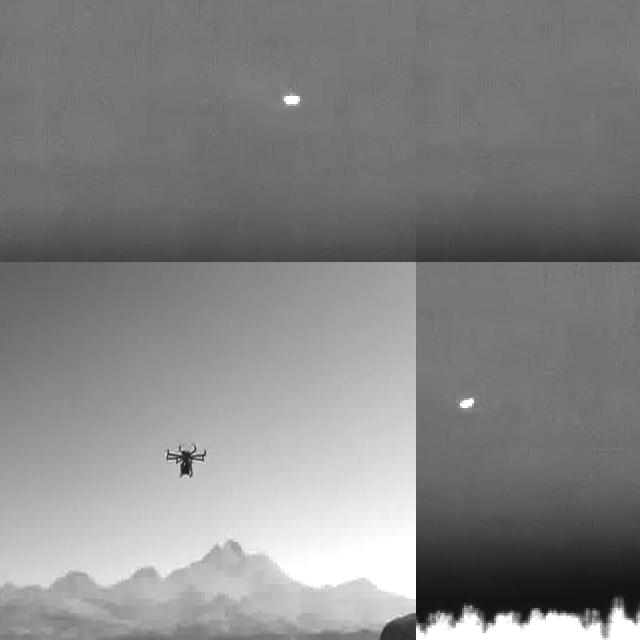1: (274, 88, 310, 118), (450, 392, 486, 422)
drone: (164, 436, 207, 480)
